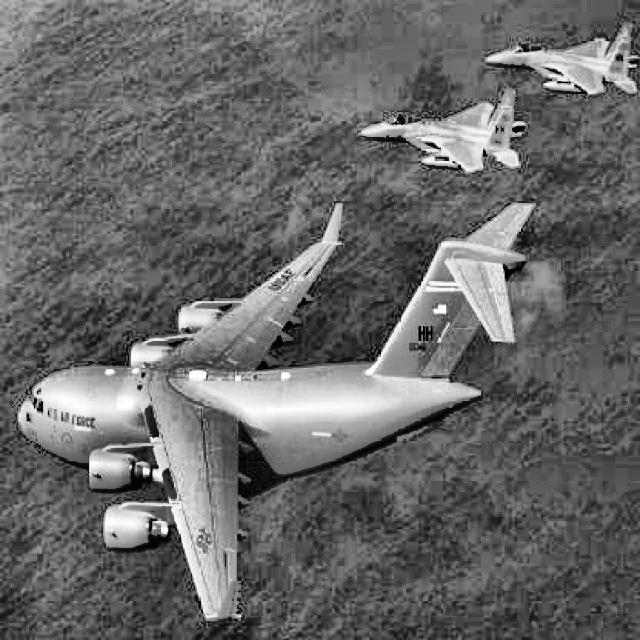C17: (16, 201, 533, 621)
F15: (358, 86, 527, 176), (484, 20, 639, 97)
